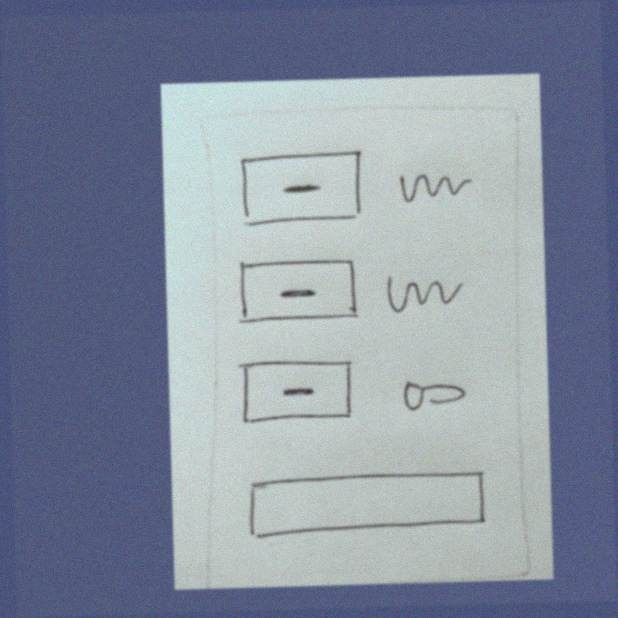button: (236, 148, 365, 230), (235, 251, 363, 332), (234, 354, 358, 433)
switch: (394, 371, 480, 422)
text: (381, 267, 467, 317), (391, 165, 478, 212)
text_input: (242, 466, 490, 546)
